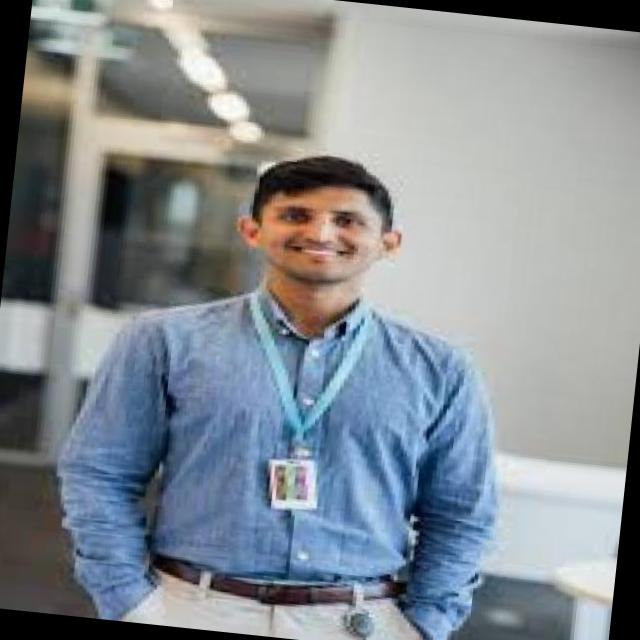id_card: (230, 292, 370, 521)
